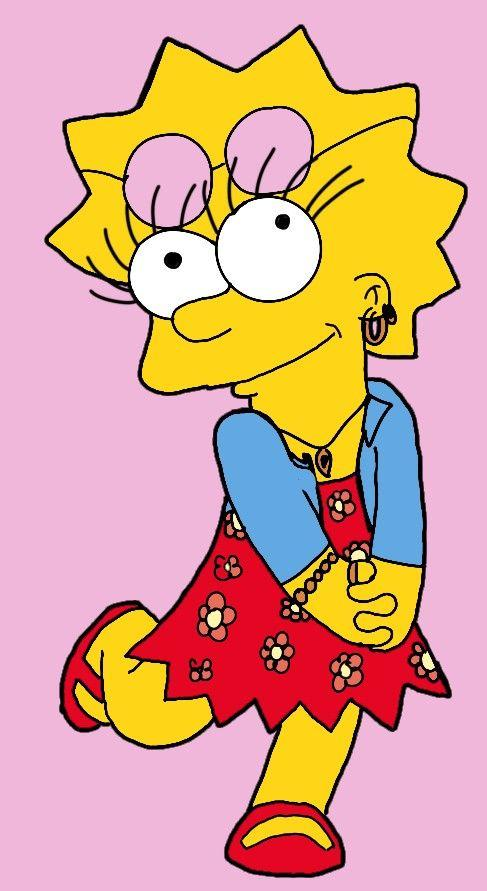Lisa: (12, 19, 482, 884)
